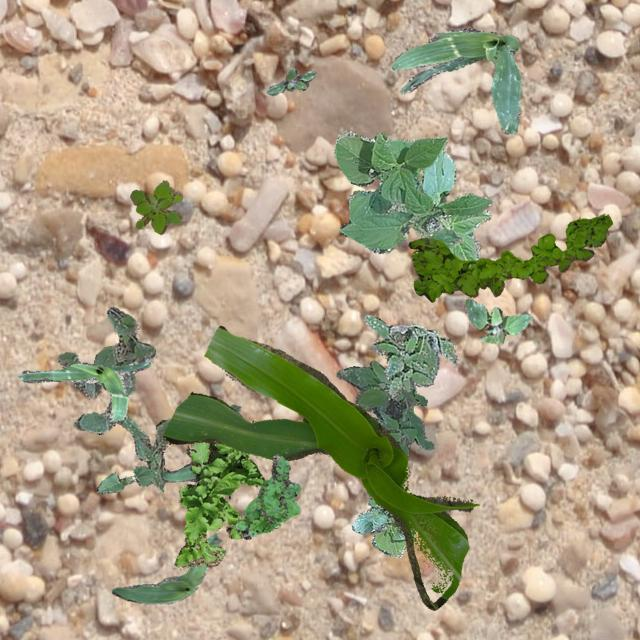crop: (162, 326, 476, 608), (334, 130, 491, 252), (390, 28, 520, 132), (17, 356, 150, 422), (420, 148, 490, 260), (110, 532, 220, 602), (160, 404, 240, 481), (350, 496, 414, 556), (96, 464, 156, 494)
weed: (56, 306, 170, 490), (408, 214, 612, 300), (174, 441, 264, 566), (336, 359, 432, 456), (363, 314, 458, 396), (233, 454, 300, 538), (464, 298, 530, 342), (130, 180, 182, 233), (266, 68, 316, 94)
